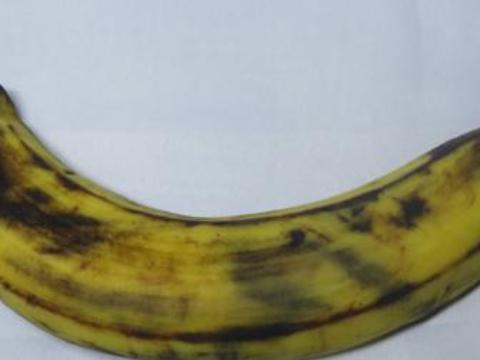overripe: (0, 66, 479, 359)
